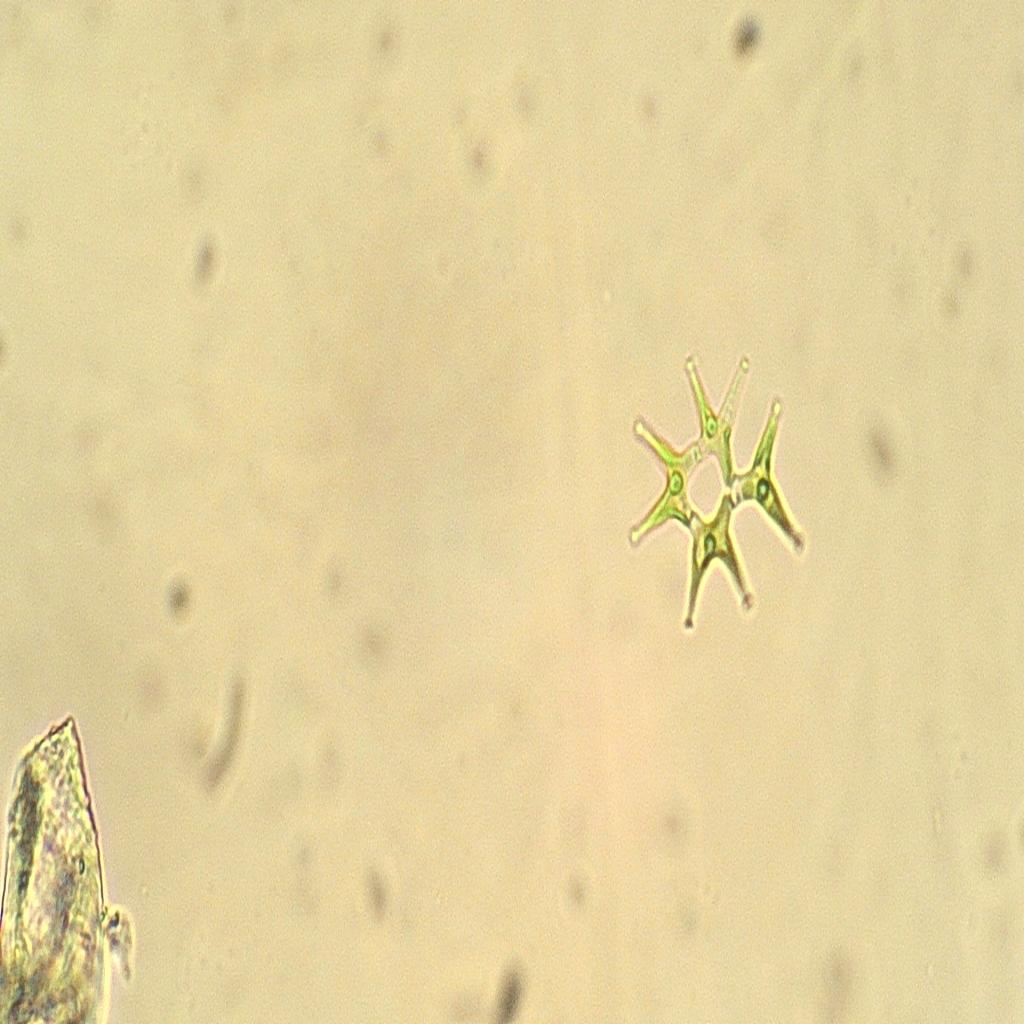Pediastrum_CT: (612, 345, 819, 655)
